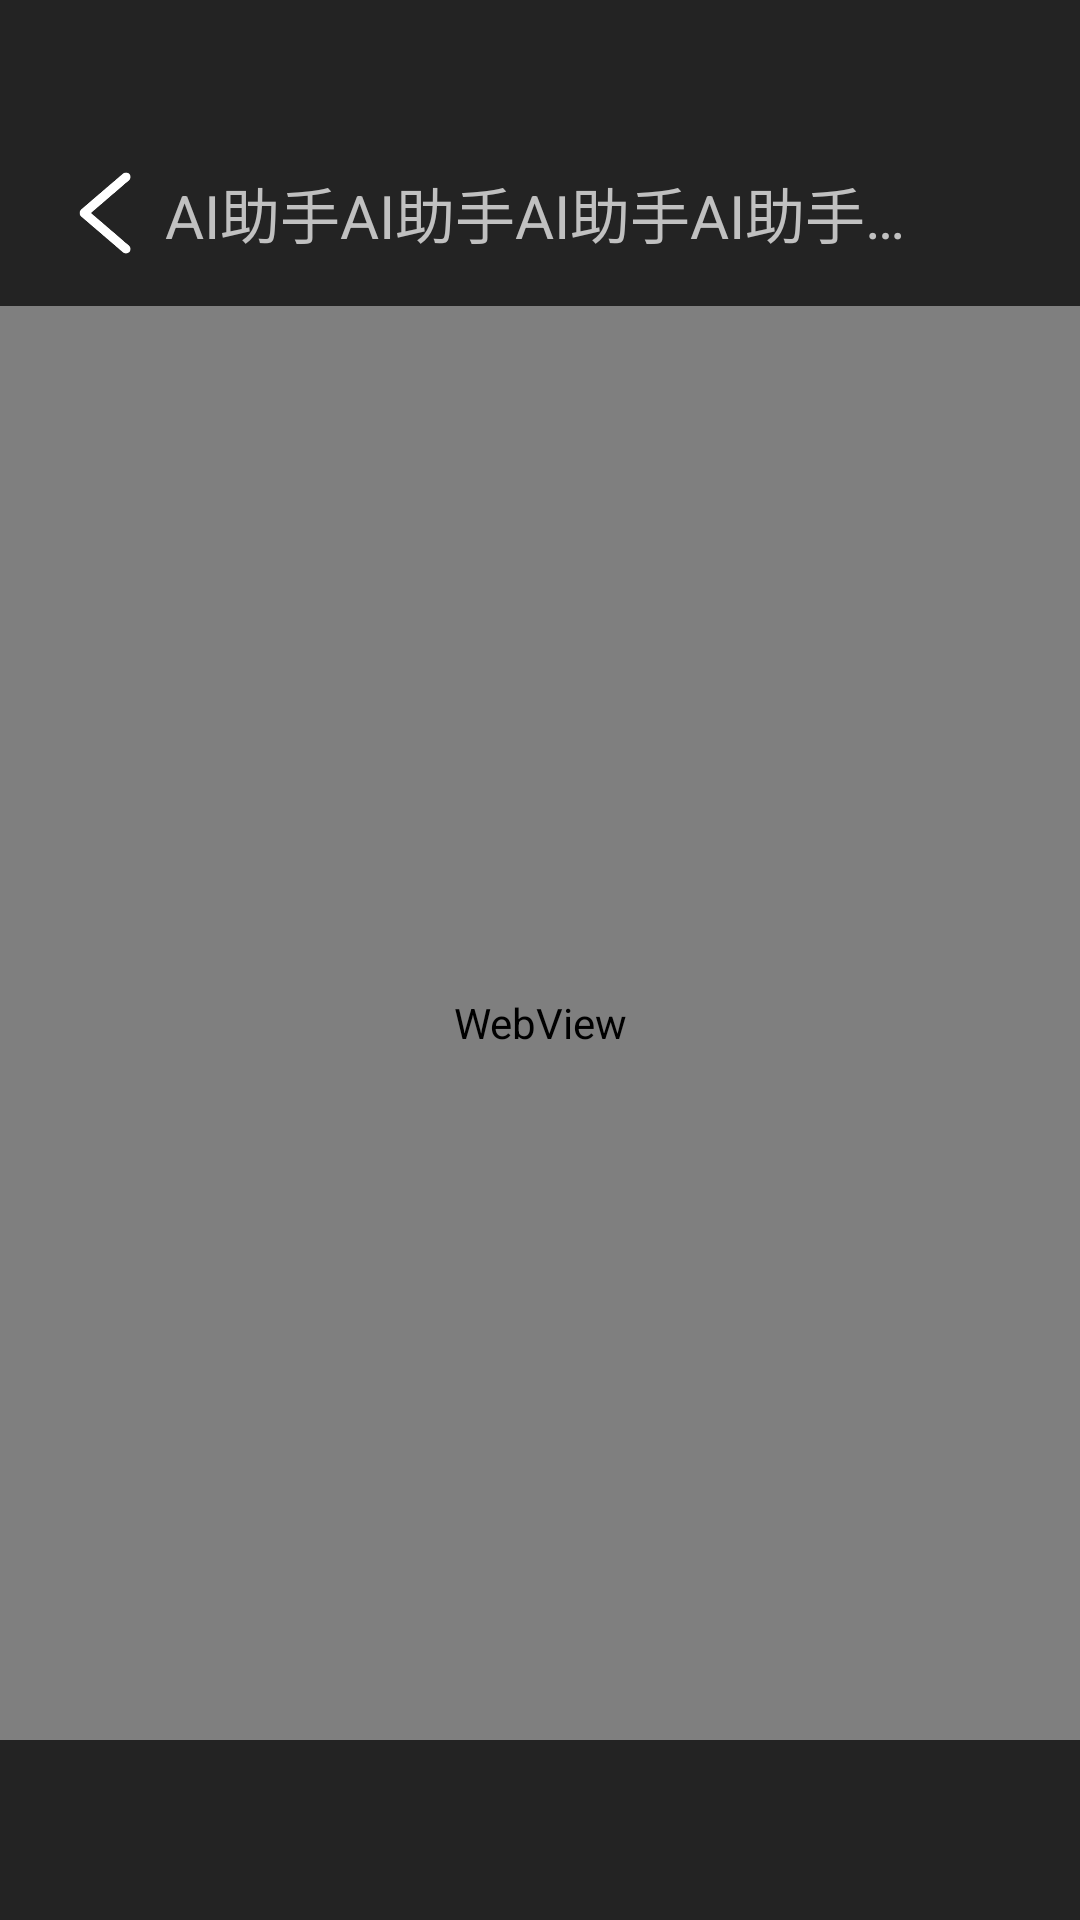

Screen size 1080×1920. Icon name, then its box in pixels as (x1, y1, x2, y2):
left: (79, 172, 131, 254)
